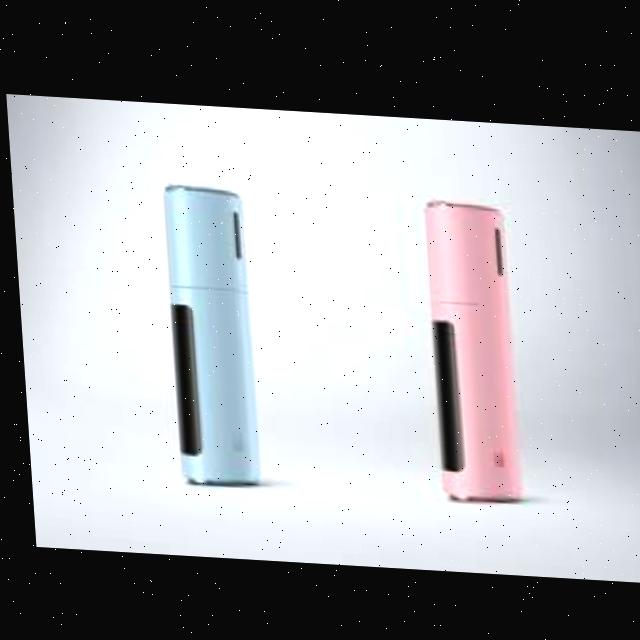vape: (160, 179, 256, 485), (422, 193, 518, 499)
